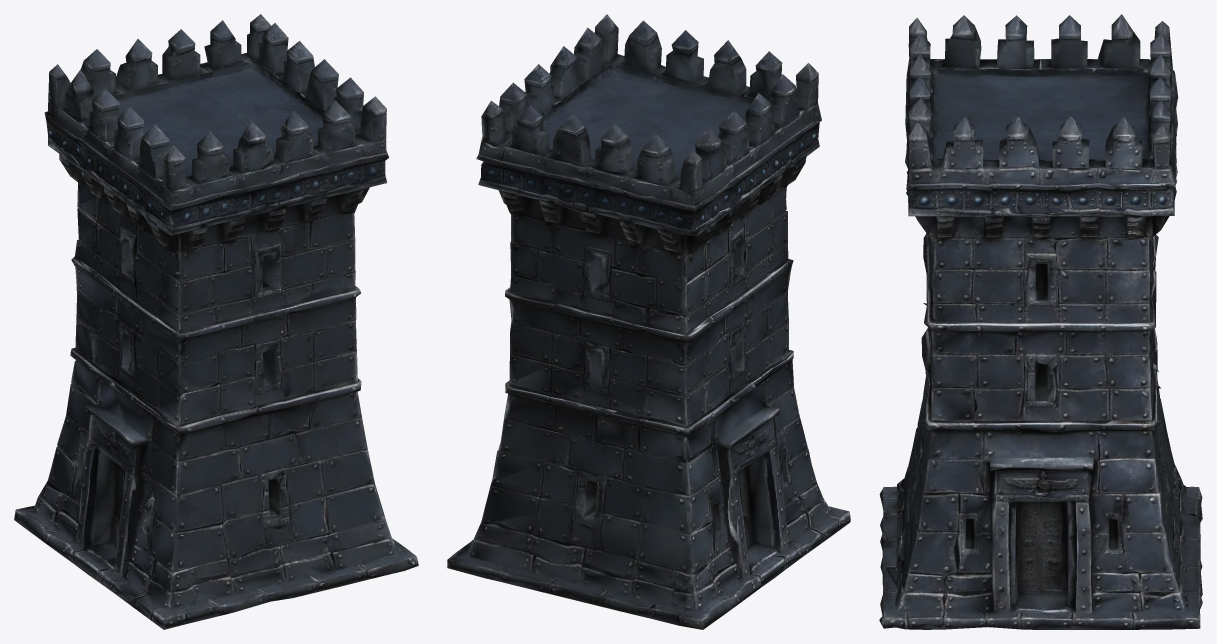
The model's file is castle_tower_medium_iron.glb.
The picture shows the model from 3 angles, left to right: view 1: azimuth 30°, elevation 25°; view 2: azimuth 150°, elevation 25°; view 3: azimuth 270°, elevation 25°; orthographic projection. The views are drawn at different scales.
Parts seen in each view (by area): view 1: tripo_node_2db55c14-7a33-46d6-b346-1ddd836d687d; view 2: tripo_node_2db55c14-7a33-46d6-b346-1ddd836d687d; view 3: tripo_node_2db55c14-7a33-46d6-b346-1ddd836d687d.
Part boxes in pixels (x1,y1,x2,y2): tripo_node_2db55c14-7a33-46d6-b346-1ddd836d687d: [14, 14, 418, 629]; tripo_node_2db55c14-7a33-46d6-b346-1ddd836d687d: [447, 14, 850, 629]; tripo_node_2db55c14-7a33-46d6-b346-1ddd836d687d: [879, 14, 1202, 629].
Bounding box in the file's own units: 0.5678 × 0.9808 × 0.5759.
Materials: 1 (1 with a texture image).
